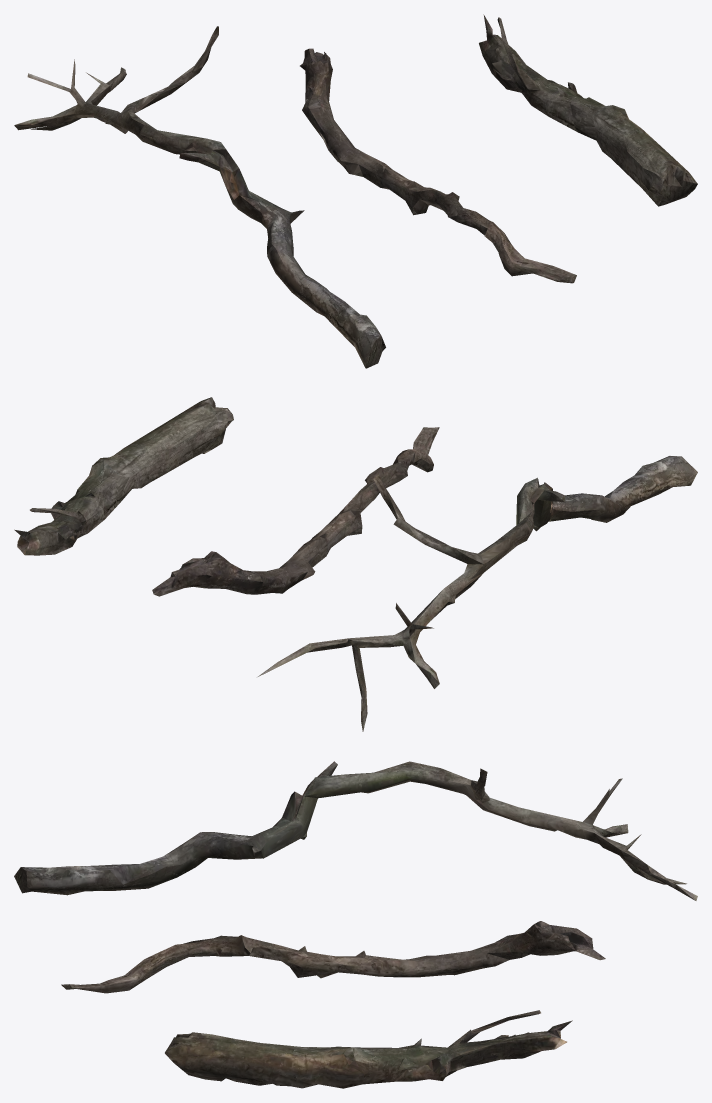
Rendered from branches.glb.
The picture shows the model from 3 angles, top to bottom: view 1: azimuth 30°, elevation 25°; view 2: azimuth 150°, elevation 25°; view 3: azimuth 270°, elevation 25°; orthographic projection. The views are drawn at different scales.
Parts seen in each view (by area): view 1: branches; view 2: branches; view 3: branches.
Boxes of the visible parts, <box> form: branches: <box>14,14,697,368</box>; branches: <box>14,397,697,731</box>; branches: <box>14,761,697,1088</box>.
Size of the model in its own units: 1.06 by 0.3351 by 1.3.
Materials: 1 (1 with a texture image).
